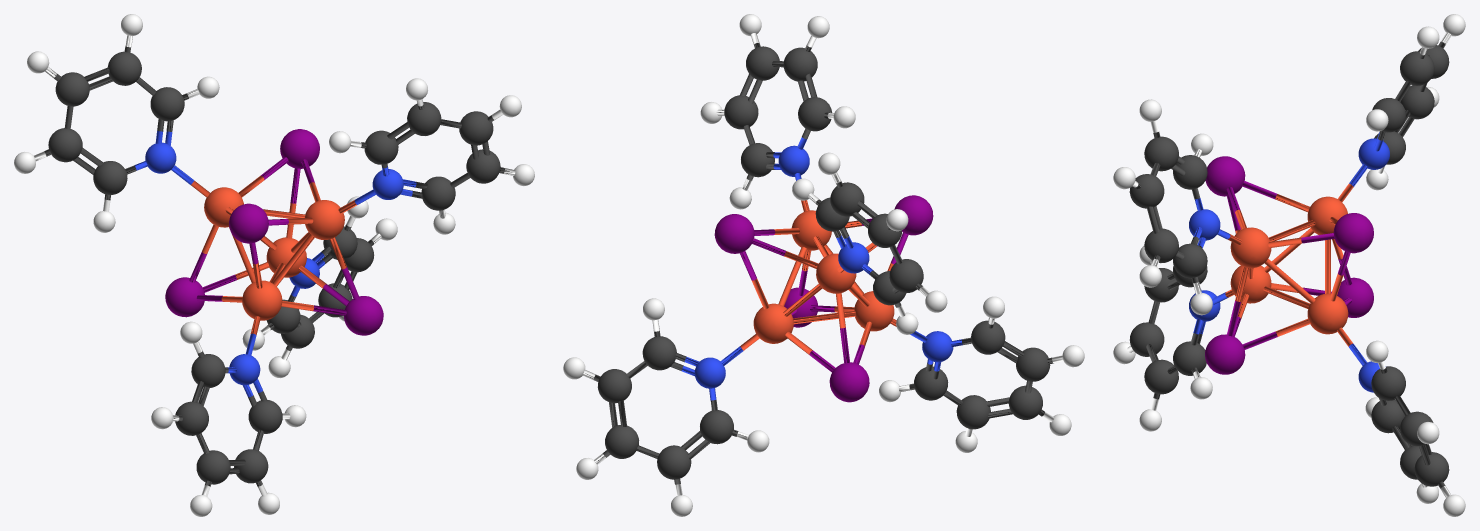
3 renders of one model, left to right at view 1: azimuth 30°, elevation 25°; view 2: azimuth 150°, elevation 25°; view 3: azimuth 270°, elevation 25°, orthographic.
Parts seen in each view (by area): view 1: 01_Cu4I4py4.007; view 2: 01_Cu4I4py4.007; view 3: 01_Cu4I4py4.007.
Boxes of the visible parts, bbox=[...] form: 01_Cu4I4py4.007: bbox=[14, 14, 534, 516]; 01_Cu4I4py4.007: bbox=[563, 14, 1084, 516]; 01_Cu4I4py4.007: bbox=[1113, 14, 1465, 516].
Bounding box in the file's own units: 2.73 × 2.73 × 2.16.
